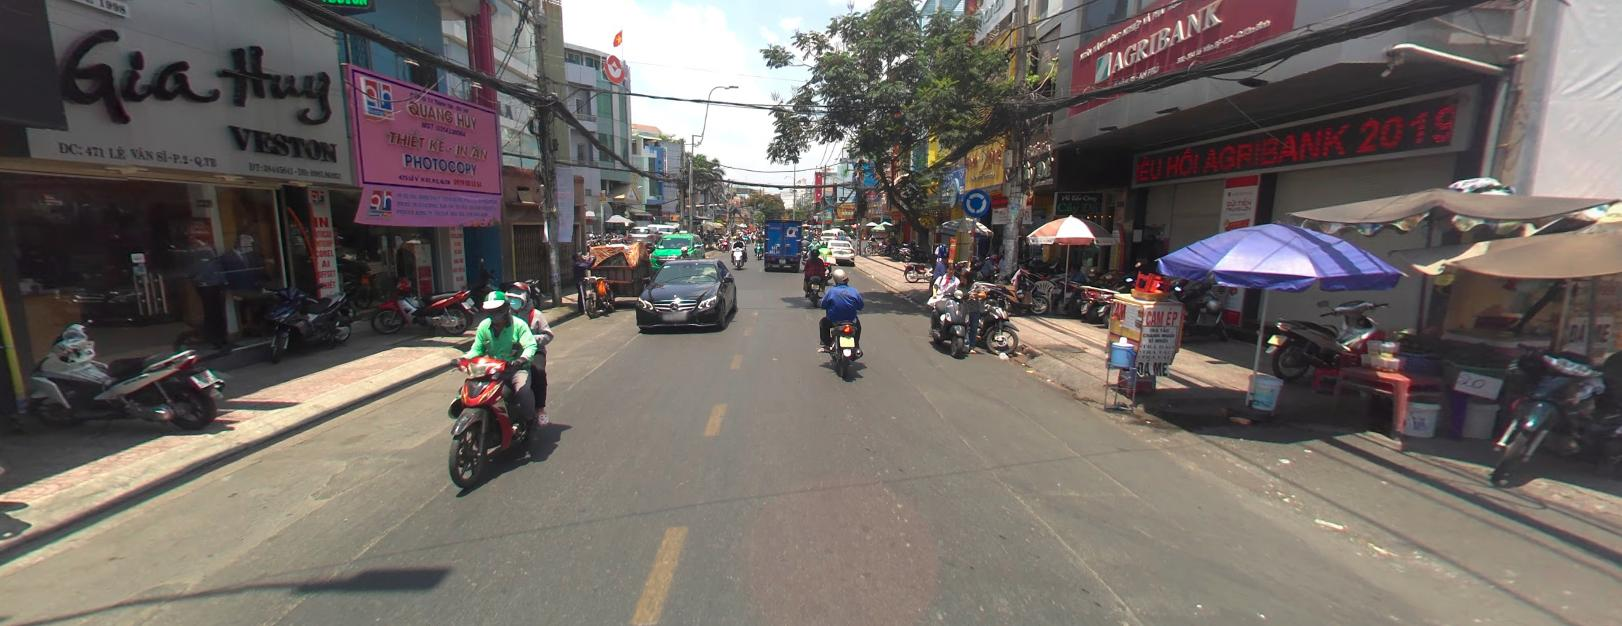Hieu lenh: (962, 188, 991, 216)
